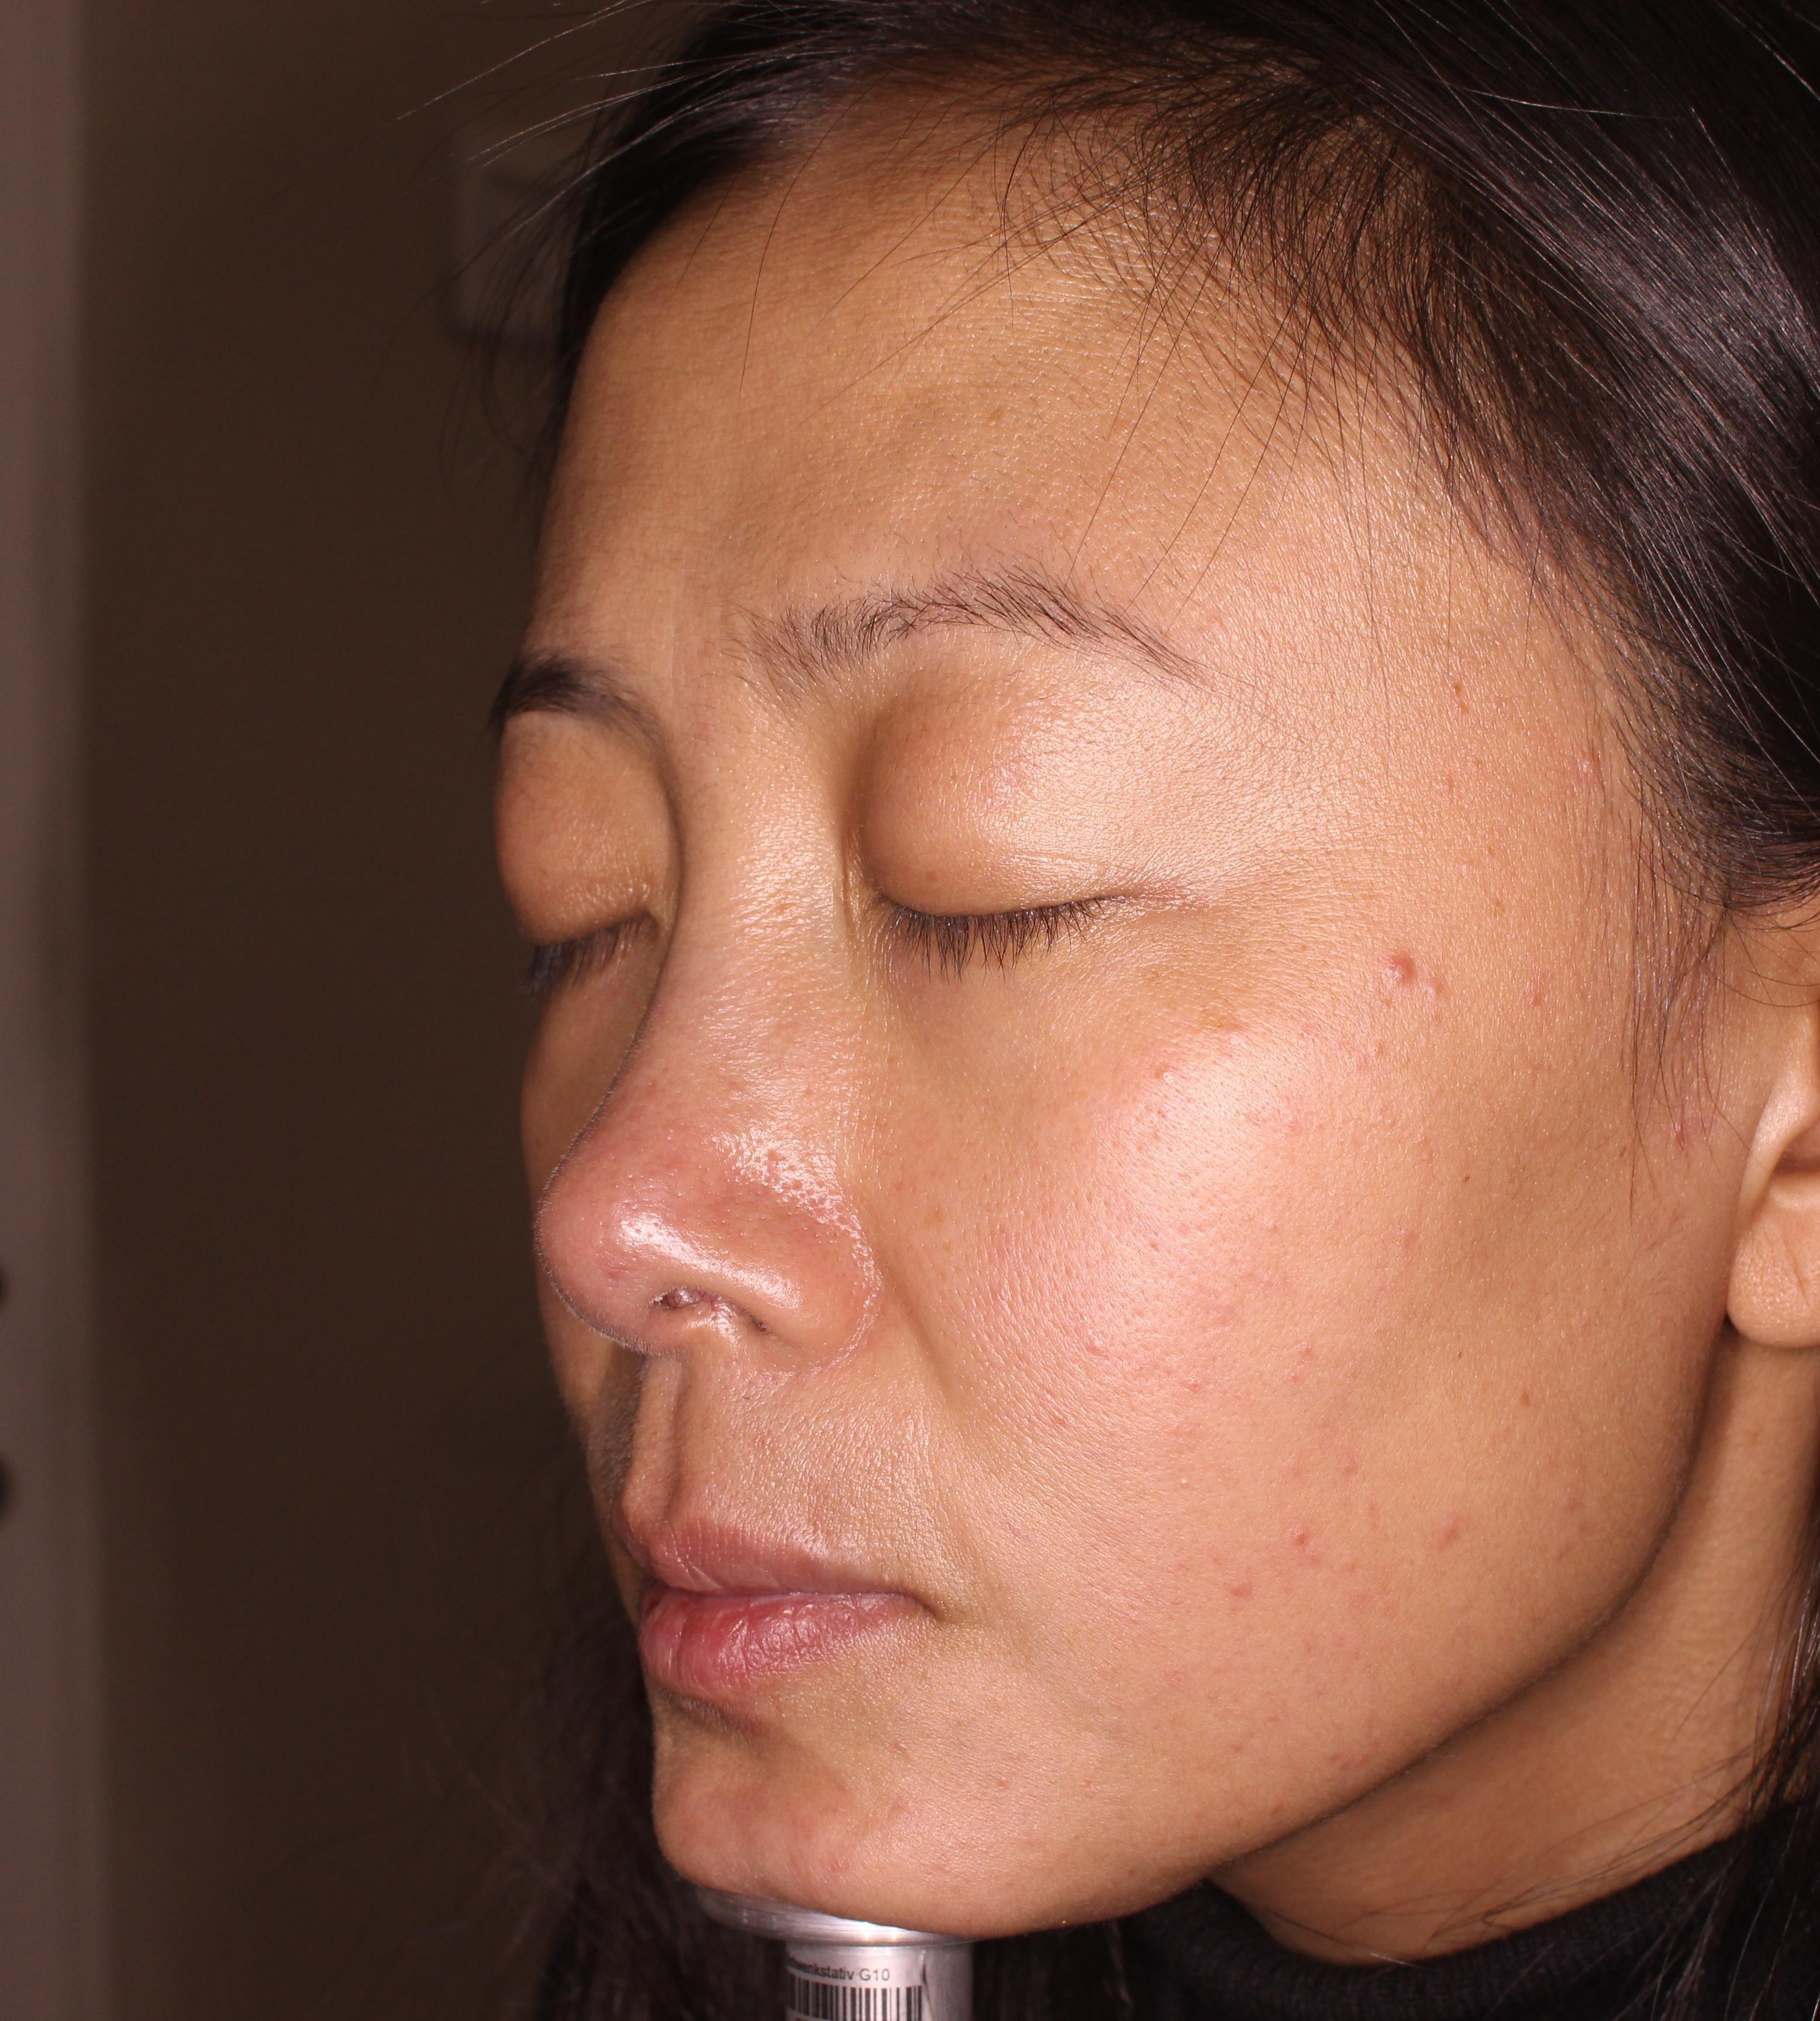fore: (1354, 931, 1458, 1024)
